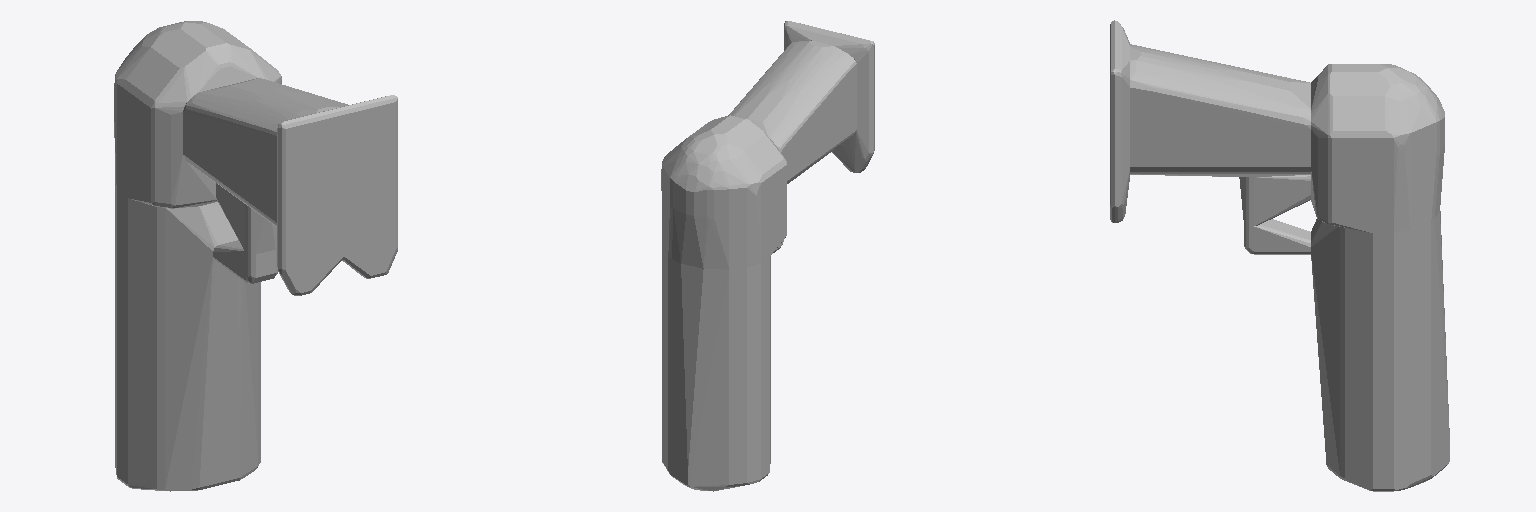
URDF robot description (root):
<?xml version="1.0"?>
<robot name="root">
  <link name="base_link">
    <visual>
      <origin xyz="0 0 0" rpy="0 0 0" />
      <geometry>
        <mesh filename="../meshes/unidex_core_pistol-b2bacf7d683379db2f4c3670d21f5380_006.obj" scale="1.0000E+00 1.0000E+00 1.0000E+00" />
      </geometry>
      <material name="">
        <color rgba="7.50E-01 7.50E-01 7.50E-01 1" />
      </material>
    </visual>
    <collision>
      <origin xyz="0 0 0" rpy="0 0 0" />
      <geometry>
        <mesh filename="../meshes/unidex_core_pistol-b2bacf7d683379db2f4c3670d21f5380_006.obj" scale="1.0000E+00 1.0000E+00 1.0000E+00" />
      </geometry>
    </collision>
  </link>
</robot>

--- Render facts (derived) ---
Views: 3 orthographic renders of the robot side by side, from view 1: azimuth 30°, elevation 25°; view 2: azimuth 150°, elevation 25°; view 3: azimuth 270°, elevation 25°.
Model root with 1 links and 0 joints (none), rooted at base_link, posed all joints at 0.
Visible links, largest first — view 1: base_link; view 2: base_link; view 3: base_link.
Boxes of the visible links, x1,y1,x2,y2 form: base_link: [114, 21, 397, 491]; base_link: [661, 21, 874, 491]; base_link: [1110, 20, 1449, 491].
Size in the robot's own frame: 0.0265 by 0.0671 by 0.0936 metres.
1 mesh visuals loaded from 1 distinct referenced files (1 OBJ).
